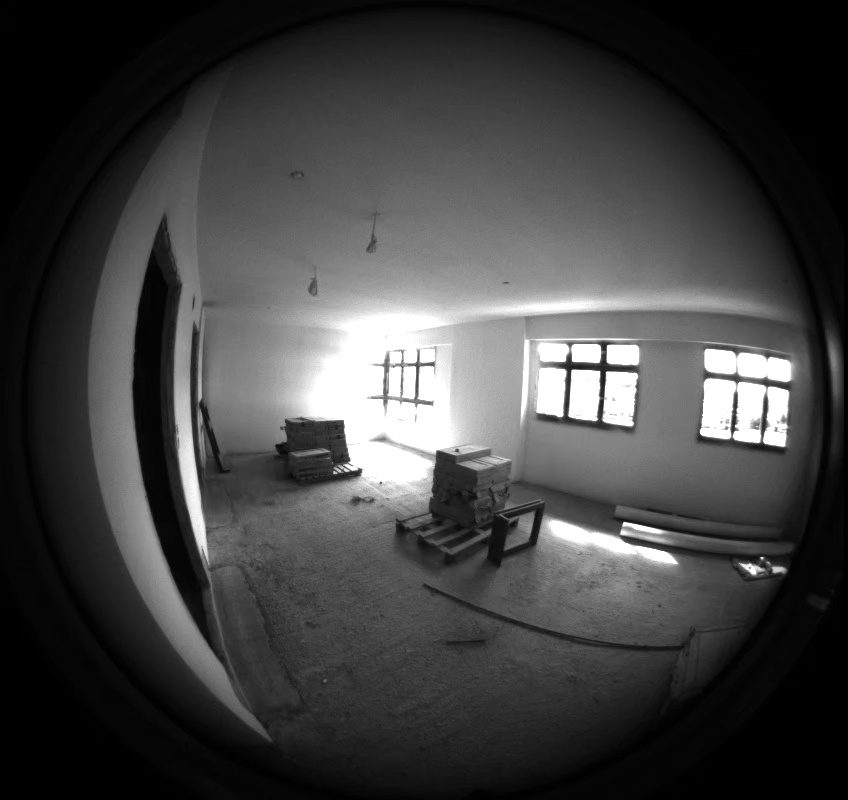Building materials: (83, 88, 744, 712), (180, 51, 794, 556), (138, 117, 535, 561), (85, 65, 361, 481)
Ceiling: (0, 0, 805, 327)
Door: (82, 218, 212, 641)
Floor: (206, 352, 784, 790)
Wall: (87, 160, 524, 478), (141, 140, 345, 452)
Windows: (92, 101, 790, 448), (103, 87, 636, 426), (65, 59, 435, 406)
